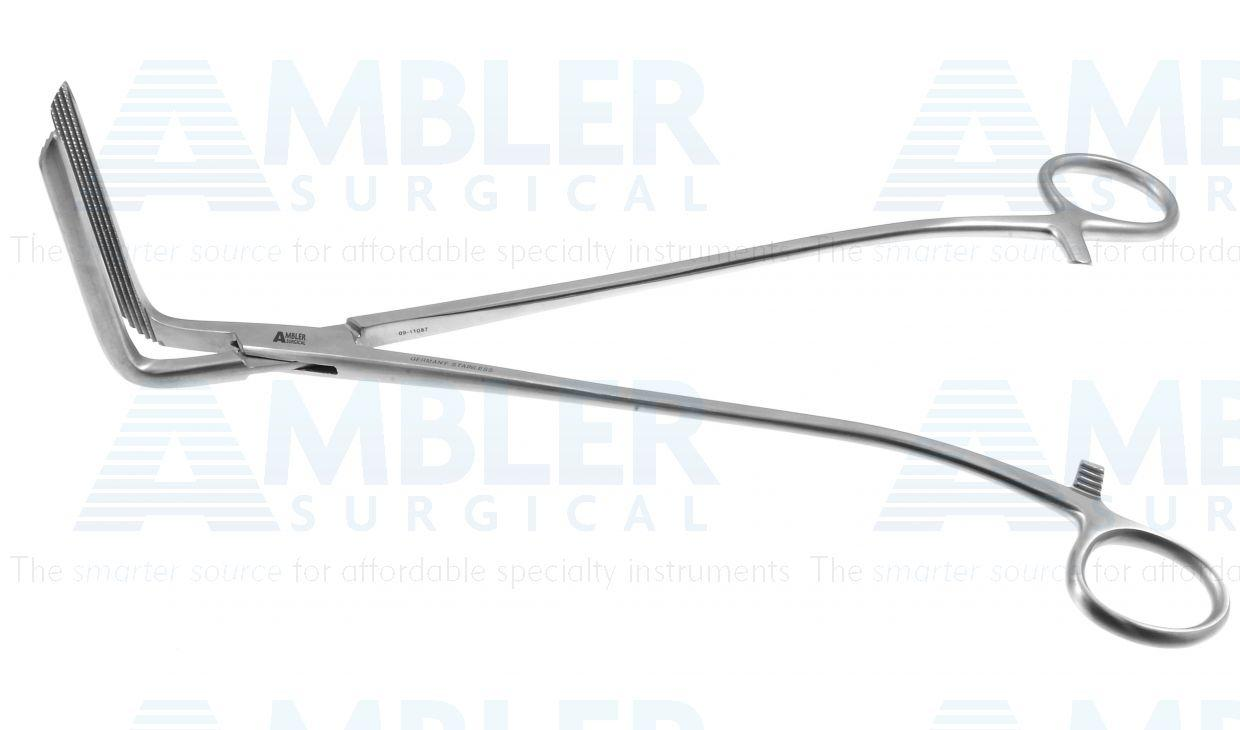Right Angle Colon Clamp: (30, 66, 1228, 658)
